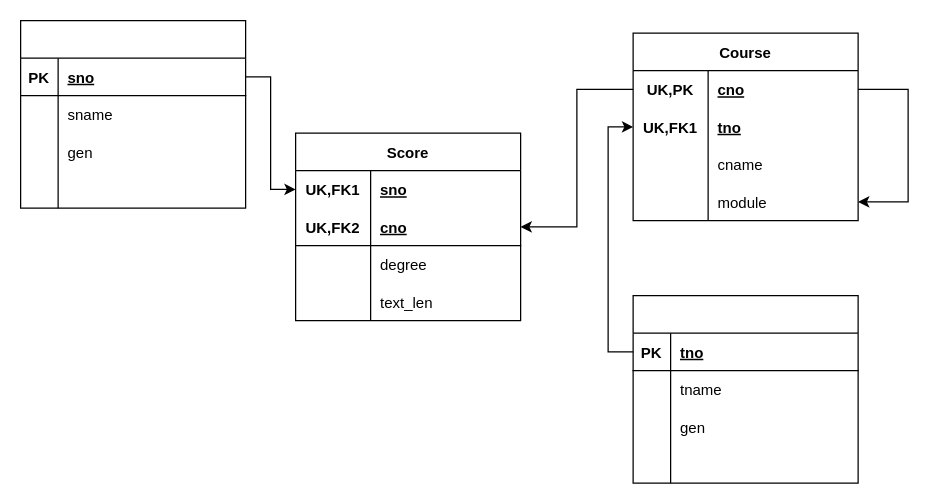
Some shapes in this 929 by 504 pixel diagram are drawn without their labels. The box of each missing label's shape, as (x1, y1, x2, y2) in pixels:
Student: (19, 19, 246, 208)
Teacher: (632, 294, 858, 483)
